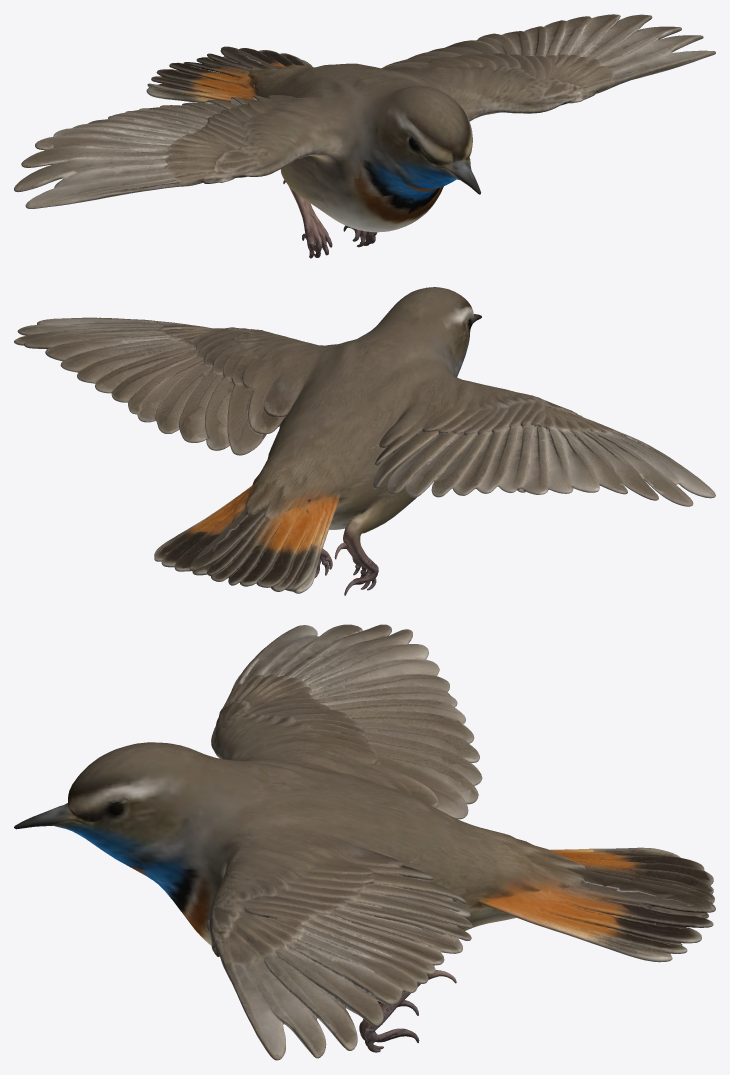
The model's file is Luscinia_svecica.glb.
3 views of the same model, one above another, from view 1: azimuth 30°, elevation 25°; view 2: azimuth 150°, elevation 25°; view 3: azimuth 270°, elevation 25° (orthographic). The views are drawn at different scales.
Visible parts, largest first — view 1: orient; view 2: orient; view 3: orient.
Boxes of the visible parts, x1,y1,x2,y2 form: orient: (14,14,715,258); orient: (14,287,715,595); orient: (14,624,715,1060).
Bounding box in the file's own units: 0.5001 × 0.1556 × 0.3438.
Materials: 1 (1 with a texture image).
